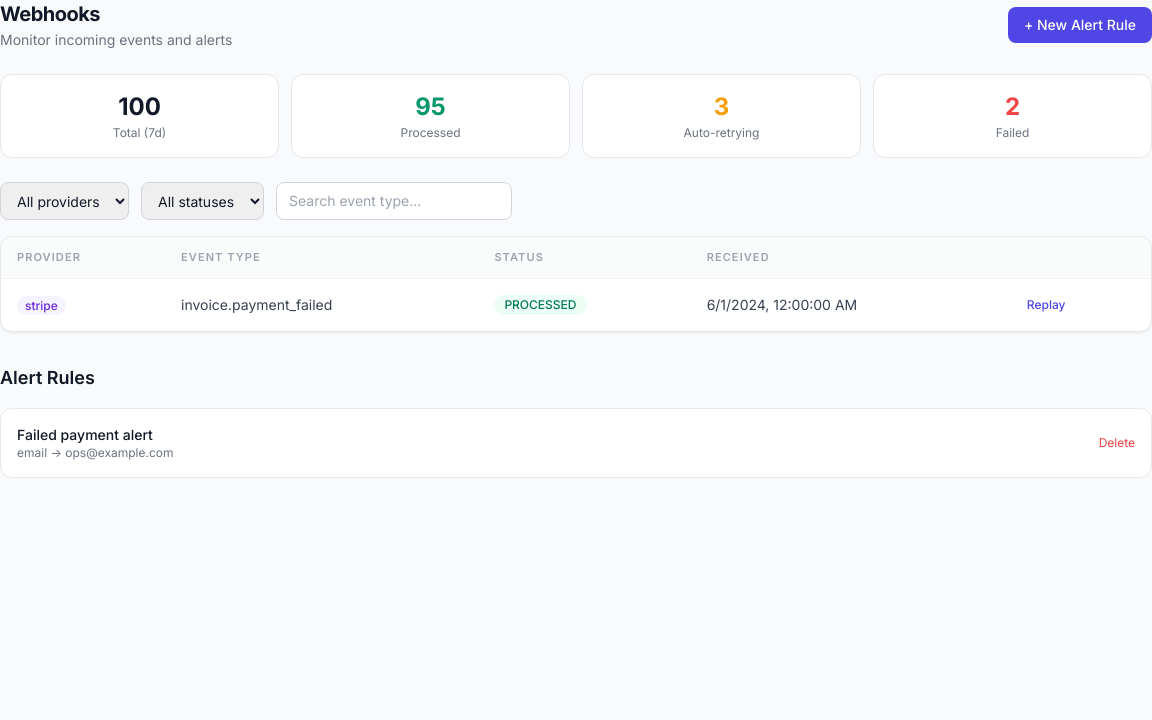
it: WebhooksPage › opens New Alert Rule dialog when button is clicked
Click the button "+ New Alert Rule".
click(1080, 25)  # box x1=1008 y1=7 x2=1151 y2=43
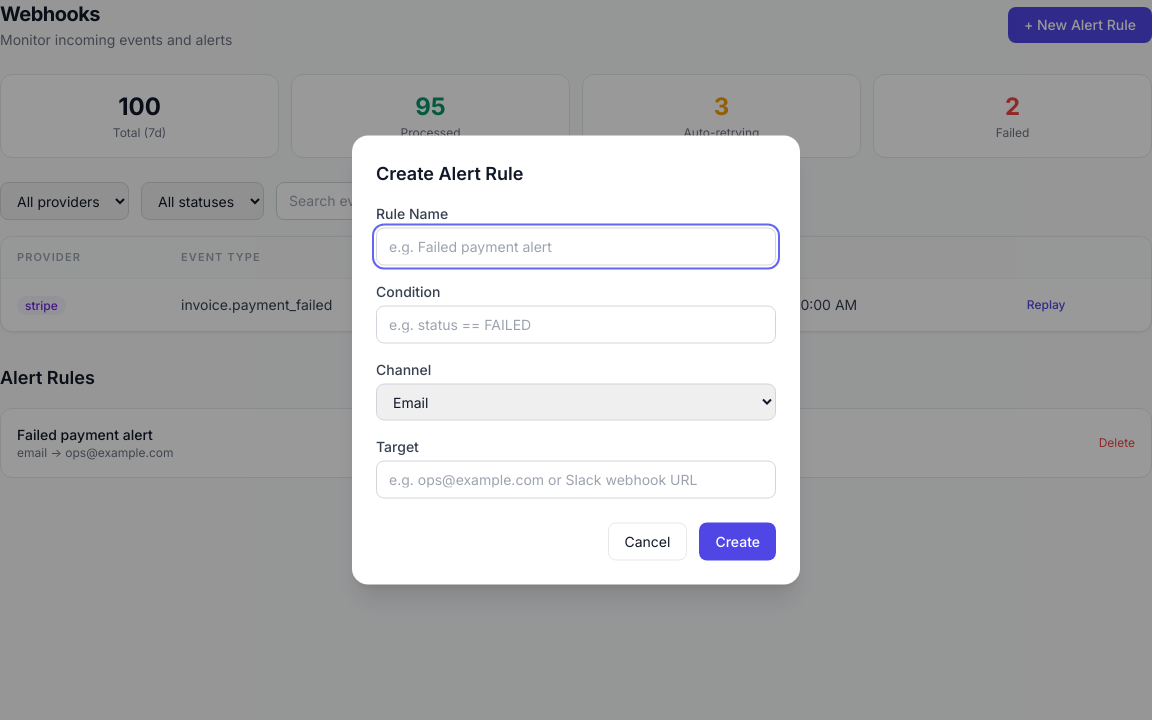
Result: the heading "Create Alert Rule" is shown at x1=376 y1=162 x2=524 y2=184
